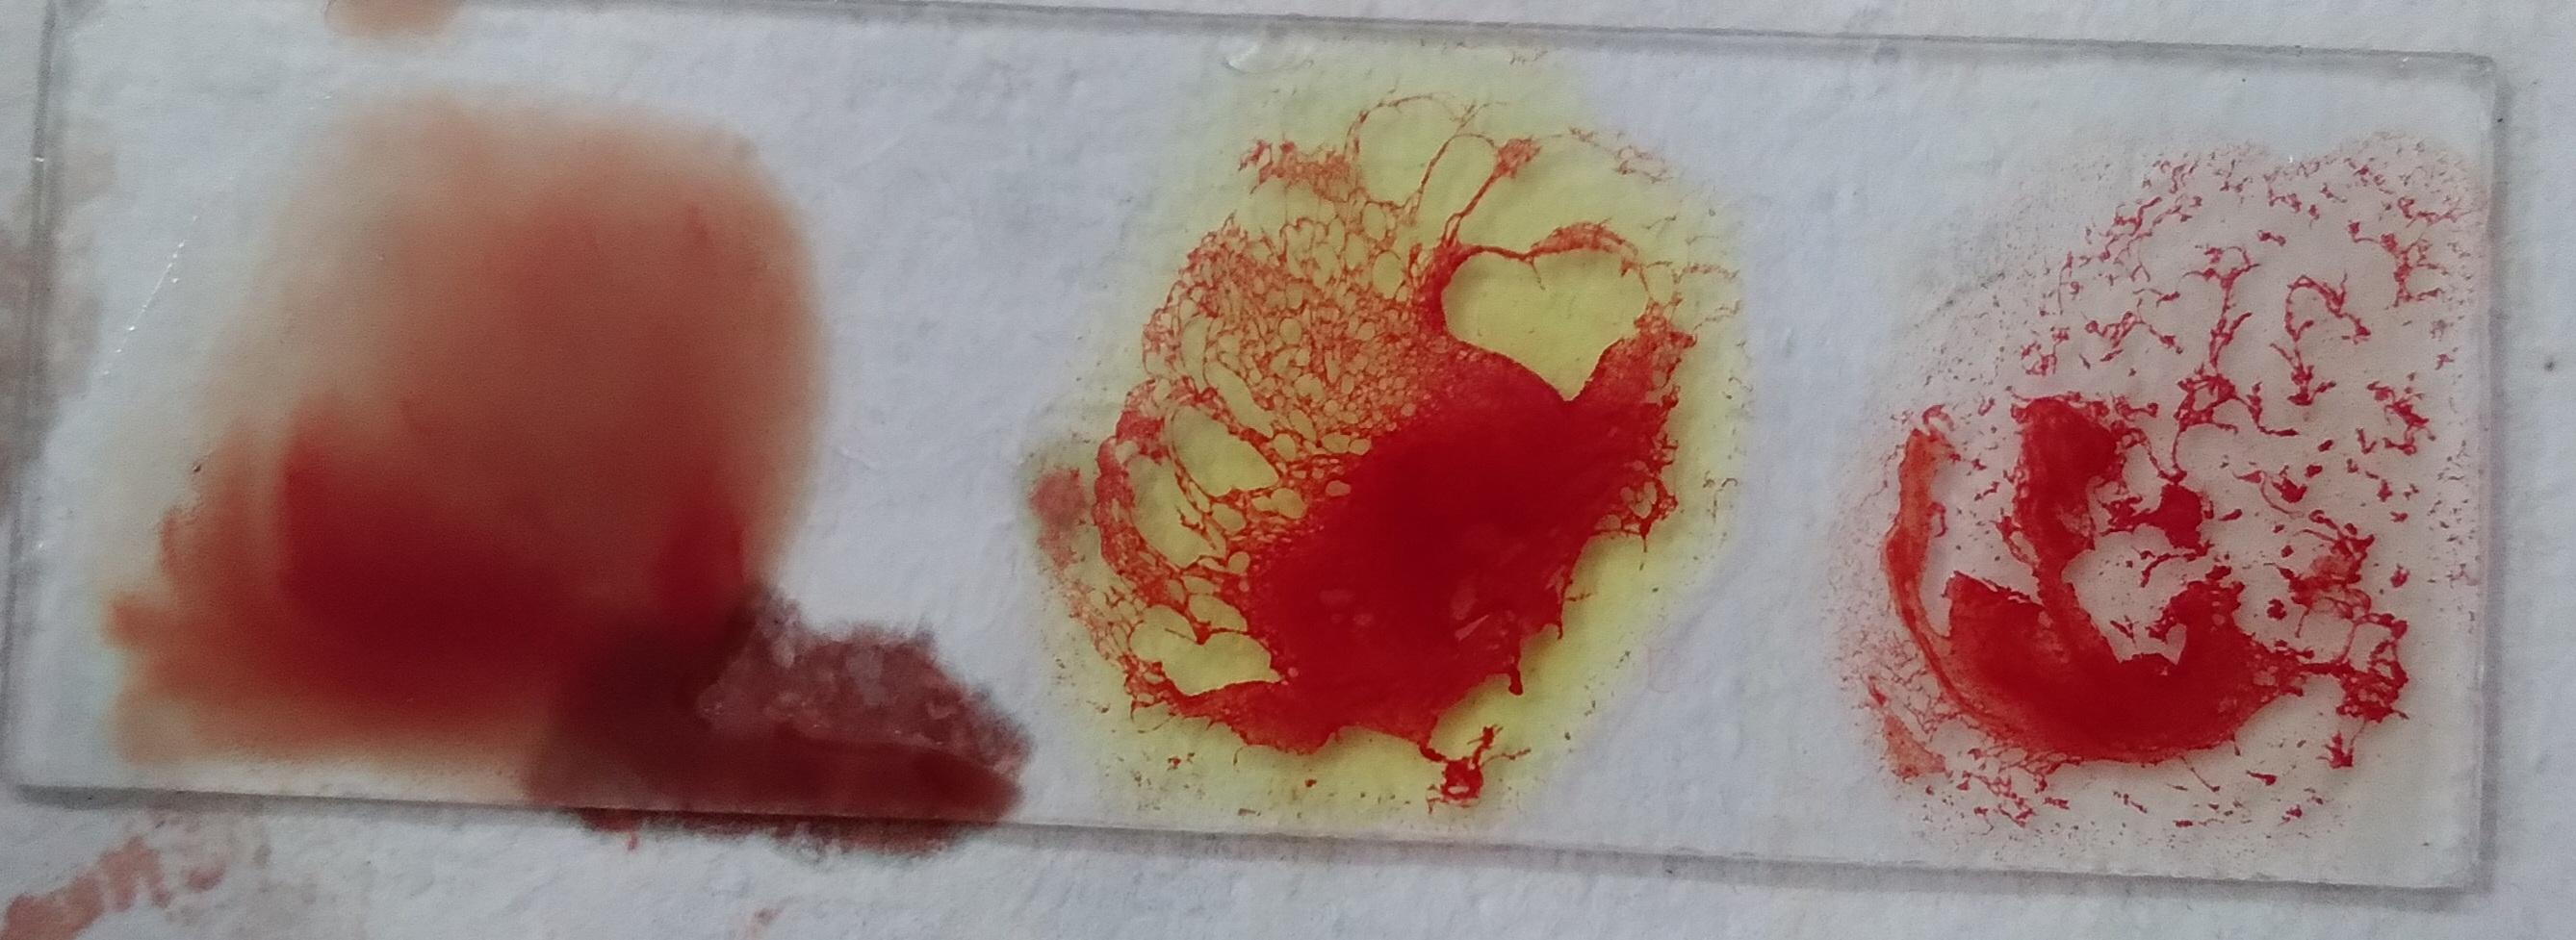B: (1096, 53, 1723, 818)
D: (1858, 154, 2469, 887)
